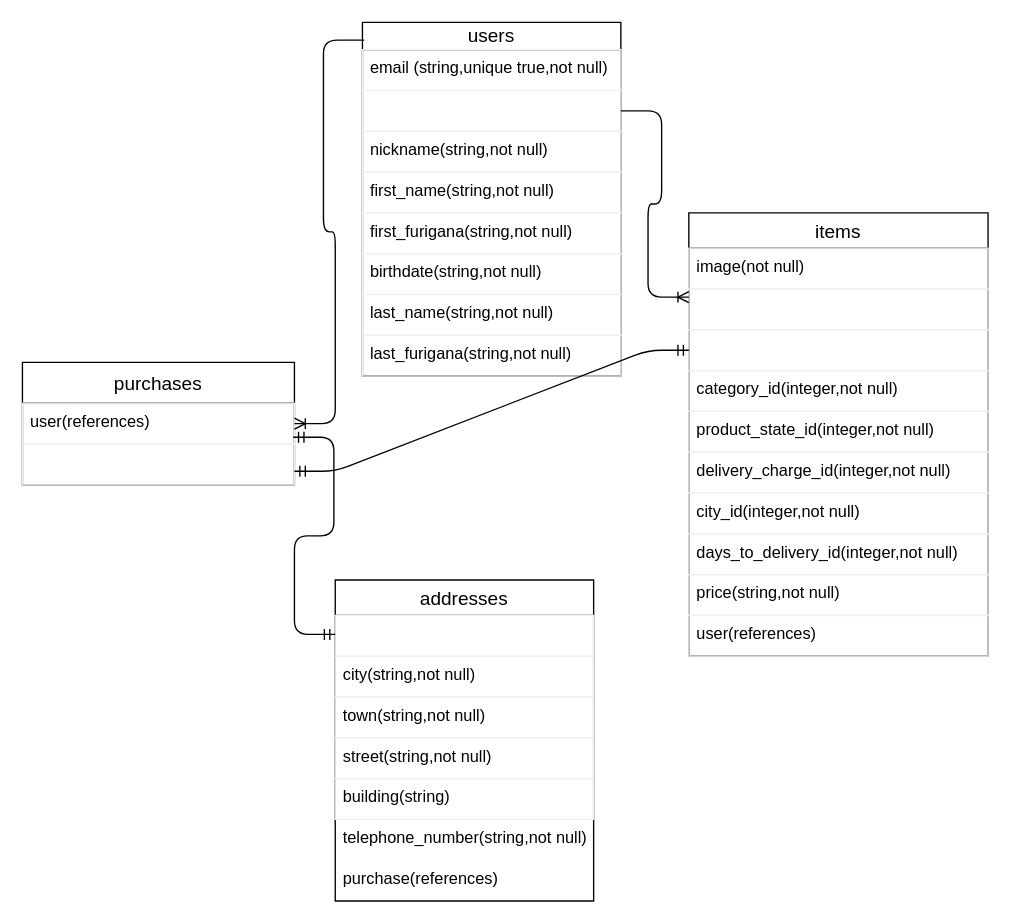
This 1010x923 diagram has some shape labels left out. The centre of each missing label's shape, as x and y in pixels:
description(text,not null): point (837, 349)
item(references): point (157, 464)
password(string,not null): point (491, 110)
postal_code(string,not null): point (464, 635)
title(string,not null): point (837, 309)
